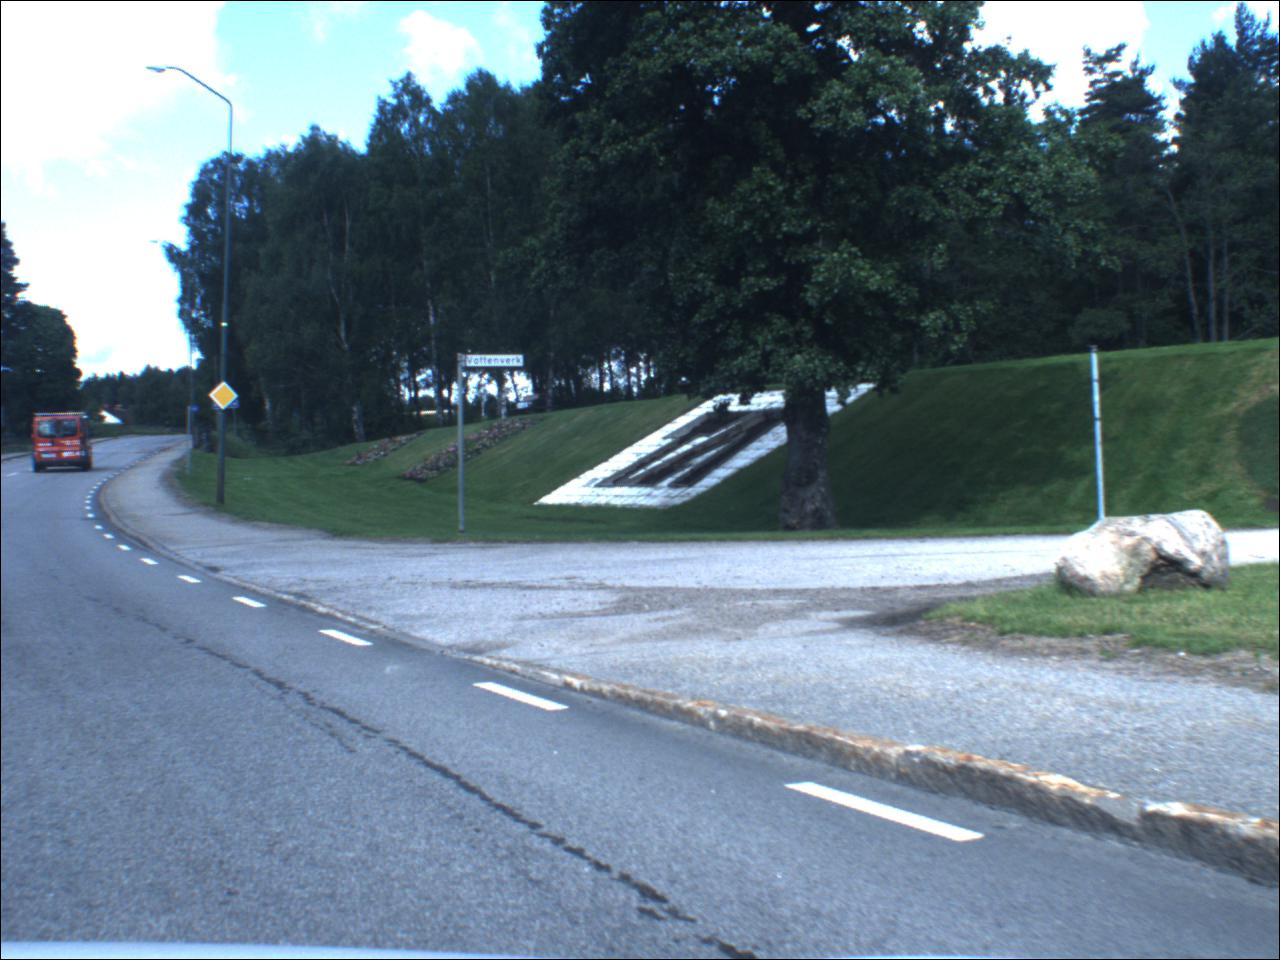PRIORITY_ROAD: (211, 382, 242, 413)
